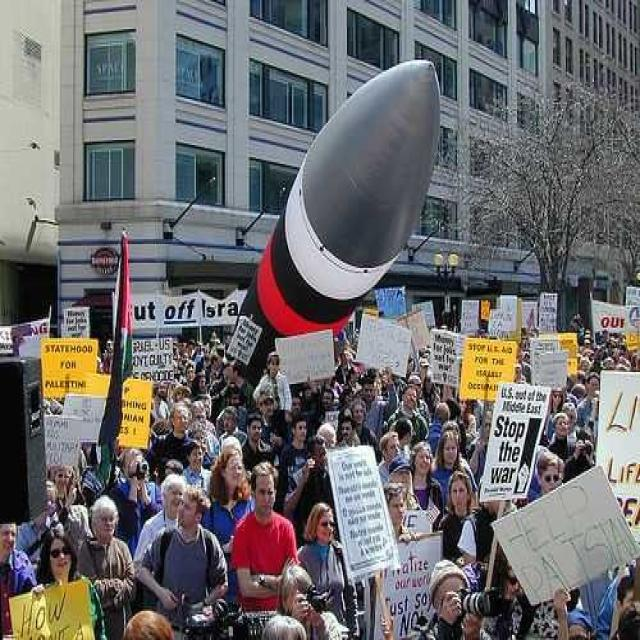missile: (236, 50, 444, 377)
